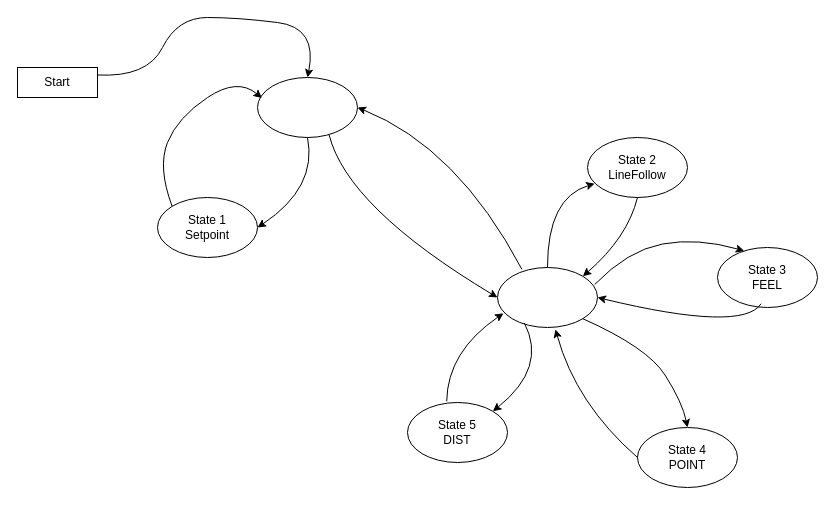
Some shapes in this 835 by 505 pixel diagram are drawn without their labels. The centre of each missing label's shape, as x and y in pixels:
"State 0 INIT" goes at pixel 307 107.
"State 6 HUB" goes at pixel 547 297.
